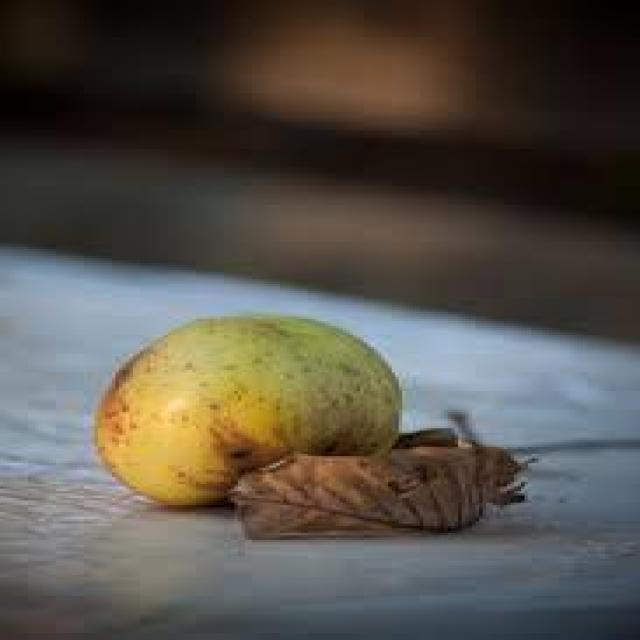maca: (91, 312, 402, 507)
